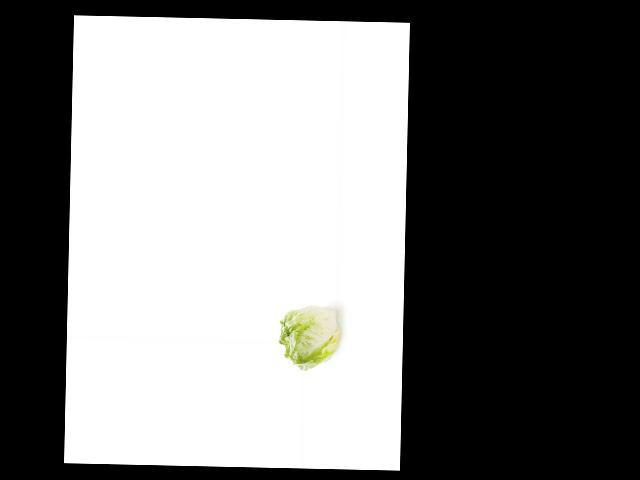lettuce: (276, 300, 340, 374)
